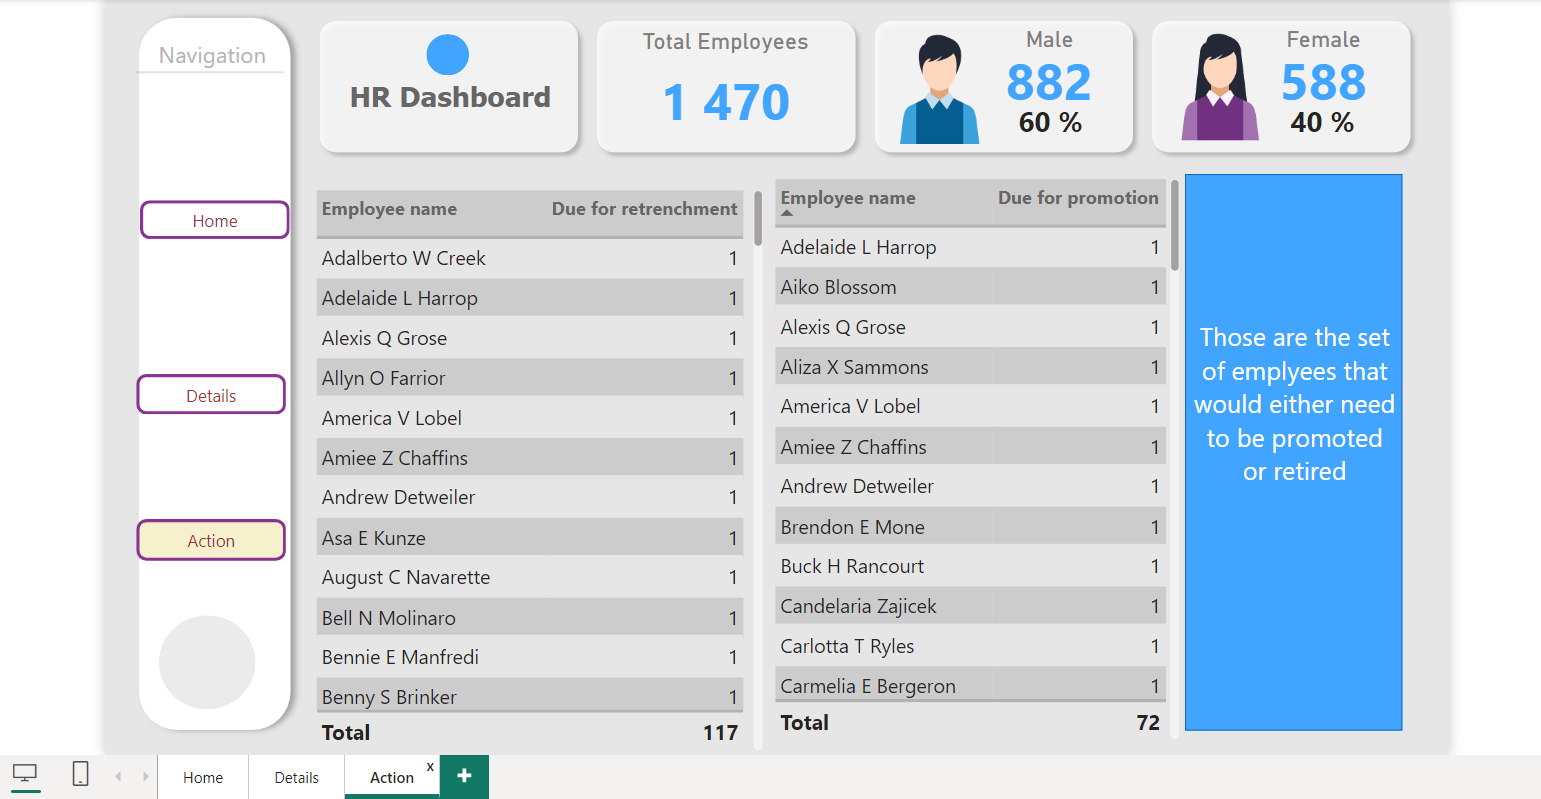

The page's visual inventory and layout, read from the dashboard file:
{"tool":"powerbi","page":{"name":"Action","canvas":[1280,720],"ordinal":2},"visuals":[{"type":"shape","box":[1028.6,166.2,207,530.1],"z":0},{"type":"shape","box":[22,7.4,166,699.8],"z":1000},{"type":"shape","box":[195.4,12.4,264.3,143.1],"z":2000},{"type":"shape","box":[459.7,12.4,264.3,143.1],"z":3000},{"type":"shape","box":[724,12.4,264.3,143.1],"z":4000},{"type":"shape","box":[988.2,12.4,264.3,143.1],"z":5000},{"type":"textbox","box":[209.7,71.2,238.7,51.4],"z":6000},{"type":"textbox","box":[36.9,33,130.5,51.4],"z":7000},{"type":"shape","box":[305.9,33,40.9,39.6],"z":9000},{"type":"card","title":"Total Employees","fields":{"Values":["All Measures.Total Emp"]},"box":[468,27.5,246.4,112.9],"z":10000},{"type":"tableEx","fields":{"Values":["HR employee data.Emplyee name","All Measures.Due for retirment"]},"box":[194.9,177,436.4,543.4],"z":17000},{"type":"tableEx","fields":{"Values":["HR employee data.Emplyee name","All Measures.Due for promotion"]},"box":[631.7,166.5,396.4,543.7],"z":18000},{"type":"textbox","box":[1029.3,299.6,206.6,217.4],"z":19000},{"type":"shape","box":[30.2,61.6,140.1,15.7],"z":27000},{"type":"shape","box":[51.4,586.8,92.3,89.7],"z":27001},{"type":"card","title":"Female","fields":{"Values":["All Measures.Female"]},"box":[1068.7,26.2,183.1,75.7],"z":27005},{"type":"card","fields":{"Values":["All Measures.Female %"]},"box":[1083.9,90.8,152.8,53.7],"z":27006},{"type":"image","box":[1010.7,25,102.4,115.5],"z":27007},{"type":"card","title":"Male","fields":{"Values":["All Measures.Male"]},"box":[814.8,26.2,170.7,75.7],"z":27008},{"type":"card","fields":{"Values":["All Measures.Male %"]},"box":[834.1,90.8,132.1,55.1],"z":27009},{"type":"image","box":[734.5,25,121.4,120.2],"z":27010},{"type":"actionButton","box":[32.9,192.1,142.7,37],"z":27011},{"type":"actionButton","box":[30.2,495.4,142.7,39.8],"z":27012},{"type":"actionButton","box":[30.2,356.8,142.7,38.4],"z":27013}]}

Visuals, with their boxes on the page's 1280x720 design canvas (x1, y1, x2, y2). These are canvas units, not pixel positions in the 1541x799 screenshot, which may show the page scaled, cropped or inside an application window:
shape: crop(1029, 166, 1236, 696)
shape: crop(22, 7, 188, 707)
shape: crop(195, 12, 460, 156)
shape: crop(460, 12, 724, 156)
shape: crop(724, 12, 988, 156)
shape: crop(988, 12, 1252, 156)
textbox: crop(210, 71, 448, 123)
textbox: crop(37, 33, 167, 84)
shape: crop(306, 33, 347, 73)
"Total Employees" card: crop(468, 28, 714, 140)
tableEx - HR employee data.Emplyee name x All Measures.Due for retirment: crop(195, 177, 631, 720)
tableEx - HR employee data.Emplyee name x All Measures.Due for promotion: crop(632, 166, 1028, 710)
textbox: crop(1029, 300, 1236, 517)
shape: crop(30, 62, 170, 77)
shape: crop(51, 587, 144, 676)
"Female" card: crop(1069, 26, 1252, 102)
card - All Measures.Female %: crop(1084, 91, 1237, 144)
image: crop(1011, 25, 1113, 140)
"Male" card: crop(815, 26, 986, 102)
card - All Measures.Male %: crop(834, 91, 966, 146)
image: crop(734, 25, 856, 145)
actionButton: crop(33, 192, 176, 229)
actionButton: crop(30, 495, 173, 535)
actionButton: crop(30, 357, 173, 395)
